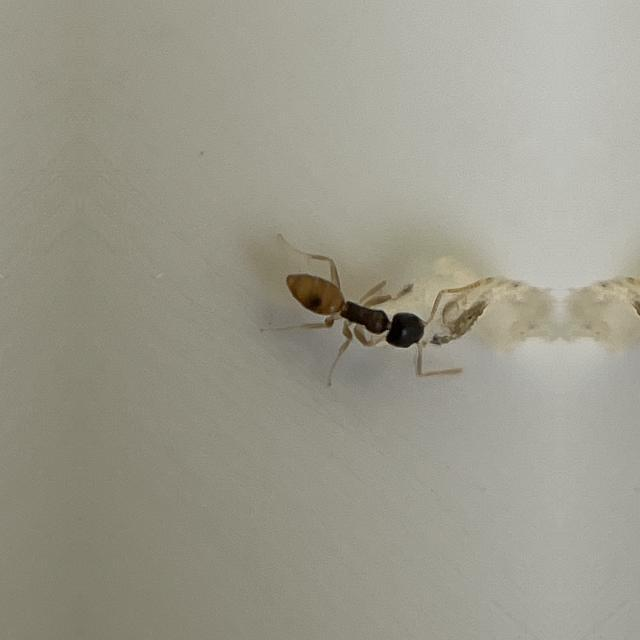Tapinoma: (264, 230, 458, 390)
